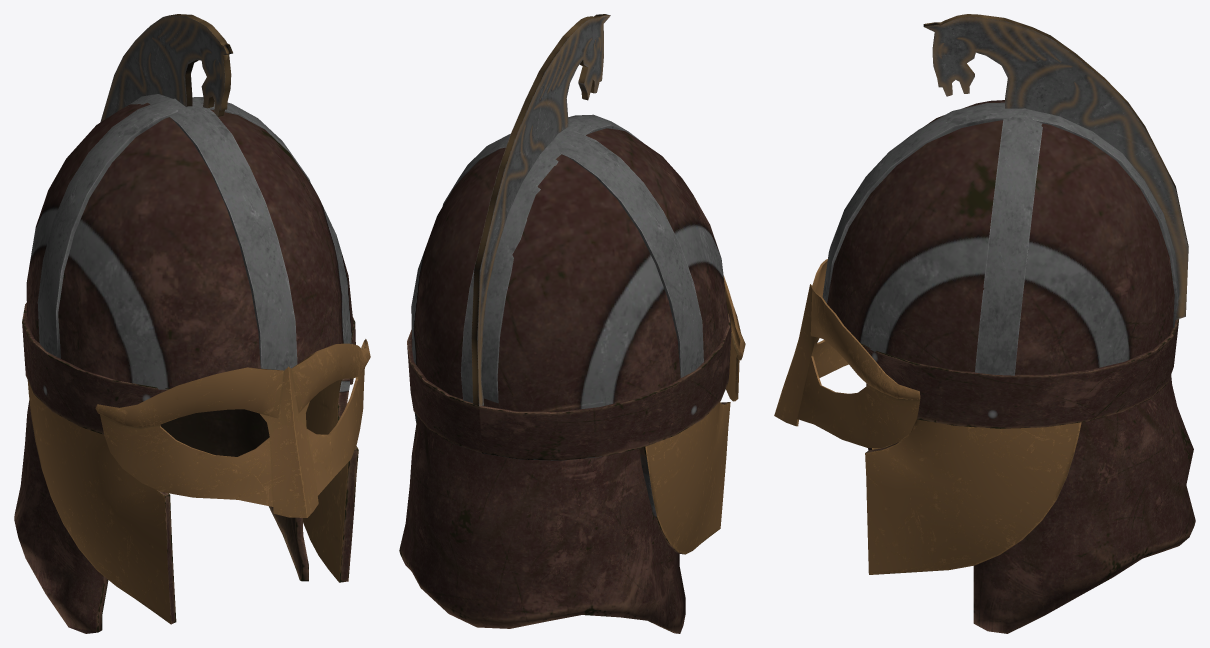
Rendered from cts_rohan_helmet3.fbx.
3 views of the same model, side by side, from view 1: azimuth 30°, elevation 25°; view 2: azimuth 150°, elevation 25°; view 3: azimuth 270°, elevation 25° (orthographic). The views are drawn at different scales.
Visible parts, largest first — view 1: cts_rohan_helmet3; view 2: cts_rohan_helmet3; view 3: cts_rohan_helmet3.
Part boxes in pixels (box(x1,y1,x2,y2)): cts_rohan_helmet3: box(14, 14, 370, 633); cts_rohan_helmet3: box(399, 14, 745, 633); cts_rohan_helmet3: box(774, 14, 1195, 633).
Size of the model in its own units: 0.1986 by 0.2711 by 0.4009.
1 material, 1 textured.
